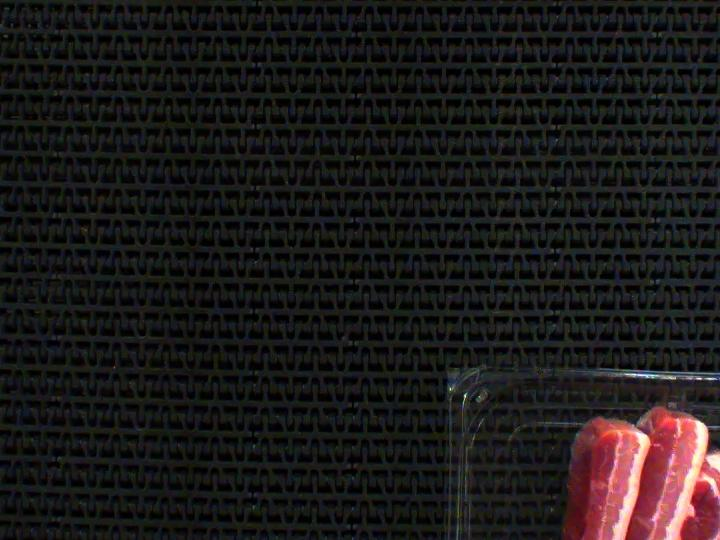packaging-error: (646, 382, 694, 413)
